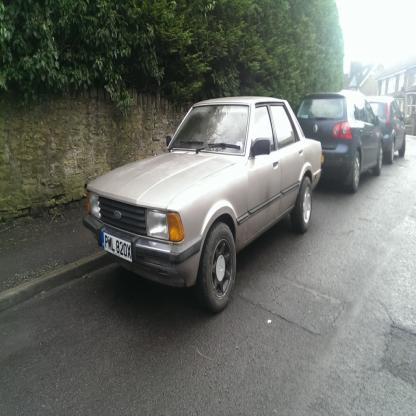Car: (83, 97, 322, 315), (297, 94, 385, 193), (367, 97, 407, 163)
